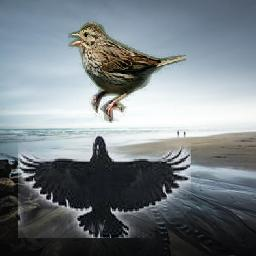Crow: (19, 134, 192, 238)
Sparrow: (68, 21, 186, 124)
